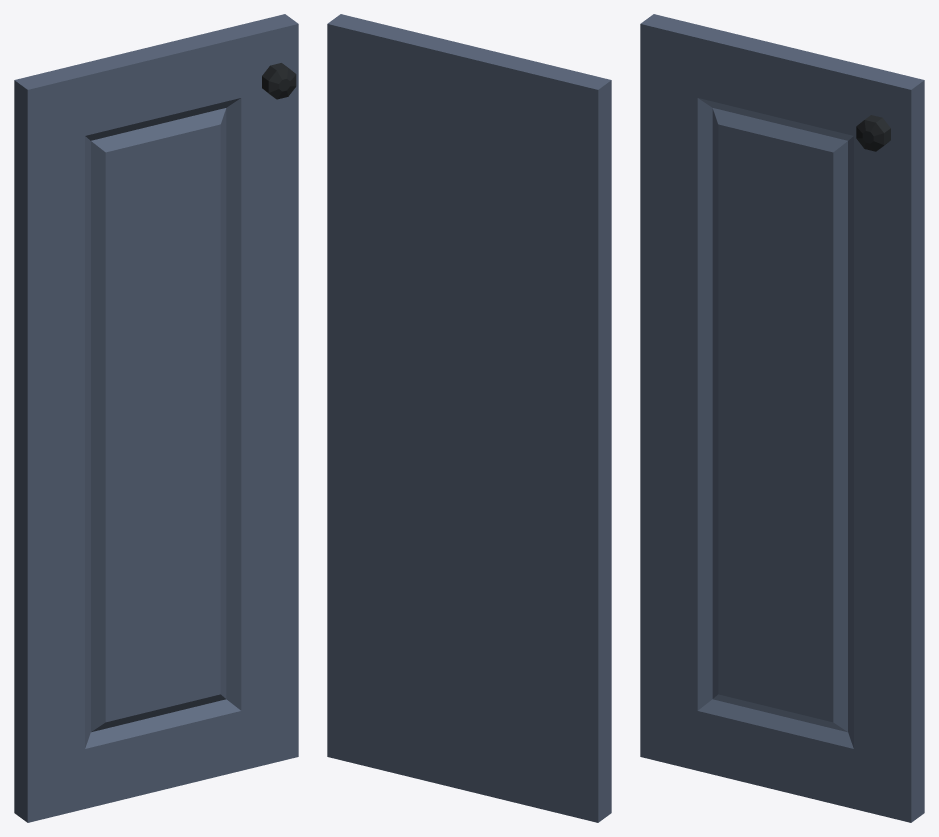
Rendered from Door3_C4_04.fbx.
3 views of the same model, side by side, from view 1: azimuth 30°, elevation 25°; view 2: azimuth 150°, elevation 25°; view 3: azimuth 330°, elevation 25° (orthographic).
Parts seen in each view (by area): view 1: Door3_C4_04; view 2: Door3_C4_04; view 3: Door3_C4_04.
Part boxes in pixels (left/top/right/bottom): Door3_C4_04: left=14, top=14, right=298, bottom=822; Door3_C4_04: left=327, top=14, right=611, bottom=822; Door3_C4_04: left=640, top=14, right=924, bottom=822.
Size of the model in its own units: 29 by 75 by 5.19.
